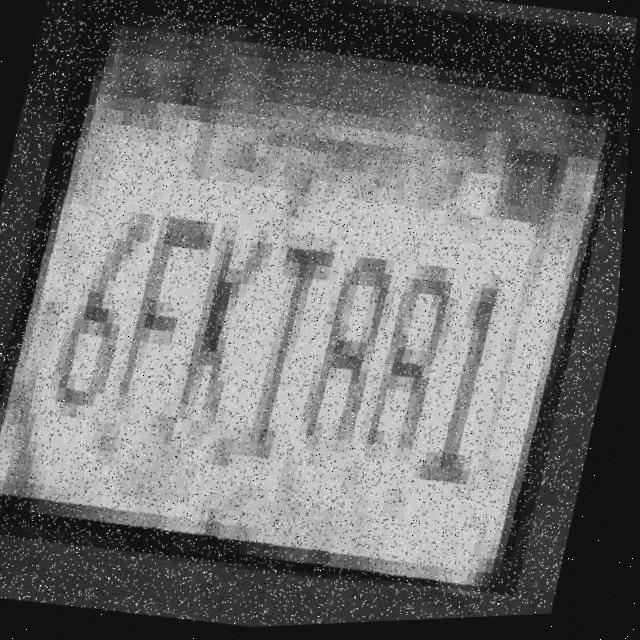LicensePlate: (0, 0, 640, 621)
